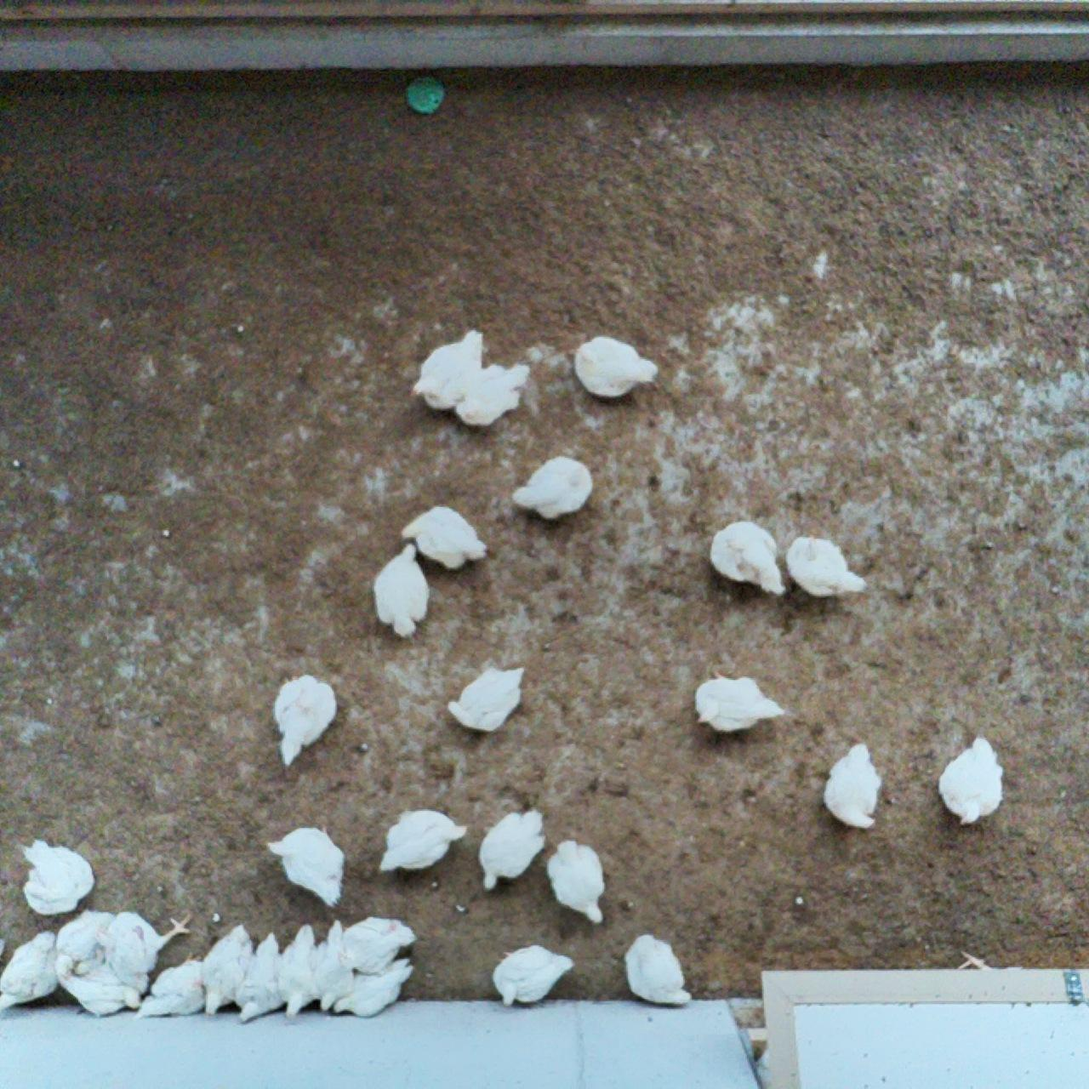chicken: (100, 909, 198, 991), (260, 822, 346, 909), (267, 672, 341, 770), (936, 731, 1008, 831), (377, 805, 470, 882), (405, 328, 487, 413), (701, 517, 784, 597), (506, 453, 596, 526), (441, 661, 529, 735), (18, 835, 97, 917), (692, 670, 786, 737), (49, 951, 139, 1020), (397, 504, 490, 570), (373, 543, 434, 643), (194, 923, 256, 1021), (477, 806, 548, 889), (783, 533, 868, 602), (550, 836, 611, 931), (493, 942, 578, 1010), (824, 739, 882, 837), (573, 334, 663, 397), (329, 954, 417, 1018), (0, 929, 63, 1017), (232, 929, 291, 1022), (273, 922, 327, 1023), (334, 913, 420, 976), (450, 361, 530, 428), (622, 933, 690, 1010), (49, 907, 119, 981), (134, 956, 211, 1022), (308, 921, 361, 1016)
